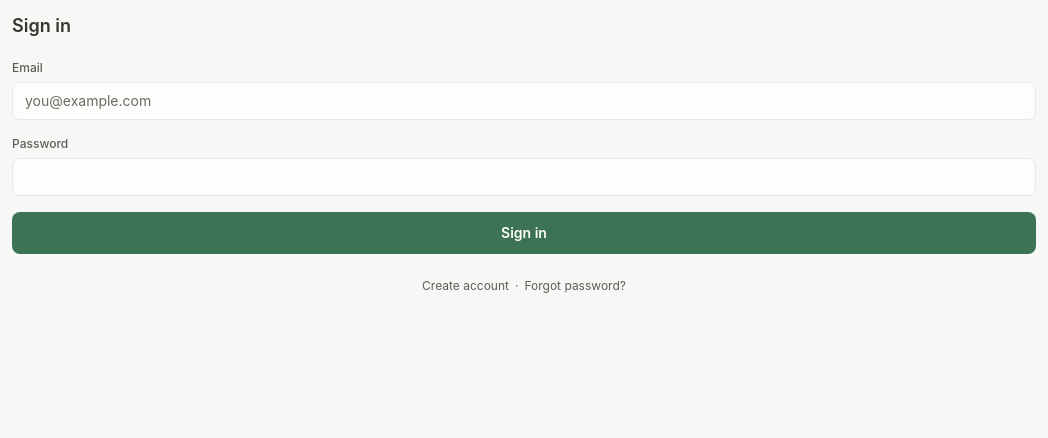
Scenario: LoginPage error mapping › shows a retryable error state on network failure
This screenshot has width=1048, height=438.
Type "alex@example.com" into the field labelled "Email" at (524, 101), box [12,82,1036,120]
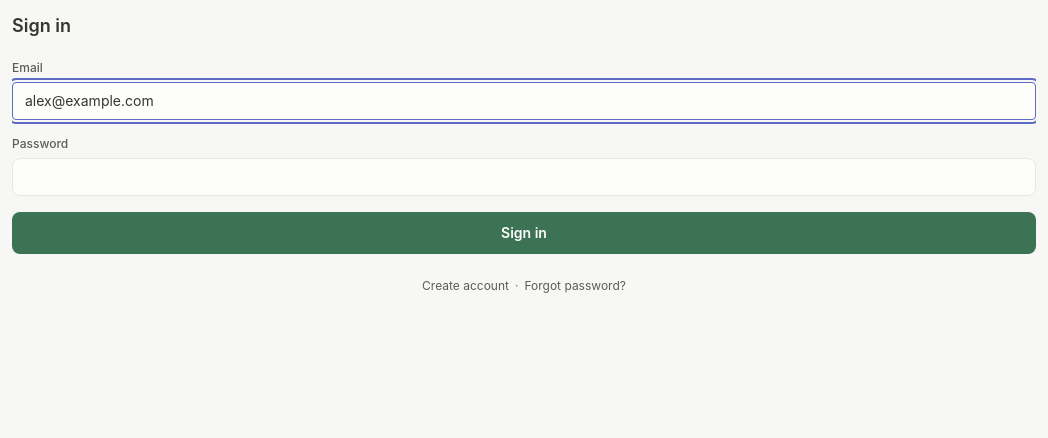
Type "hunter2boogaloo" into the password field labelled "Password" at (524, 177), box [12,158,1036,196]
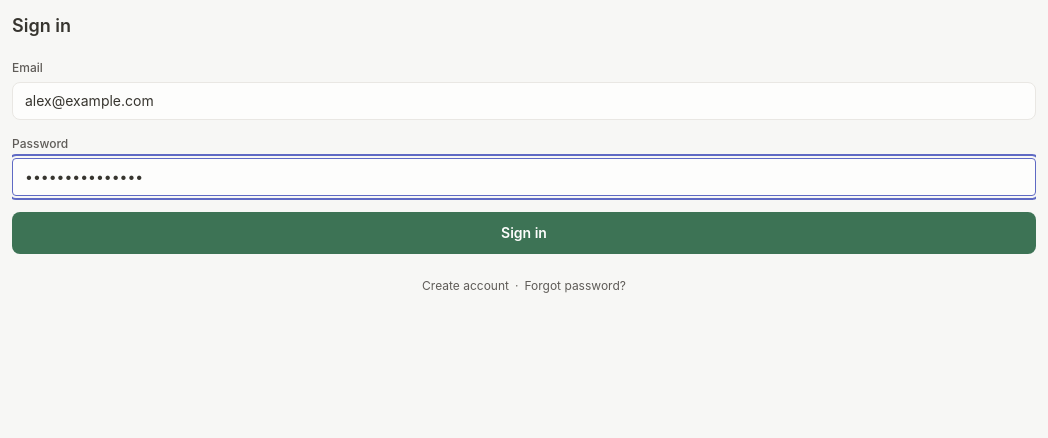
Click the button "Sign in" at (524, 233), box [12,212,1036,254]
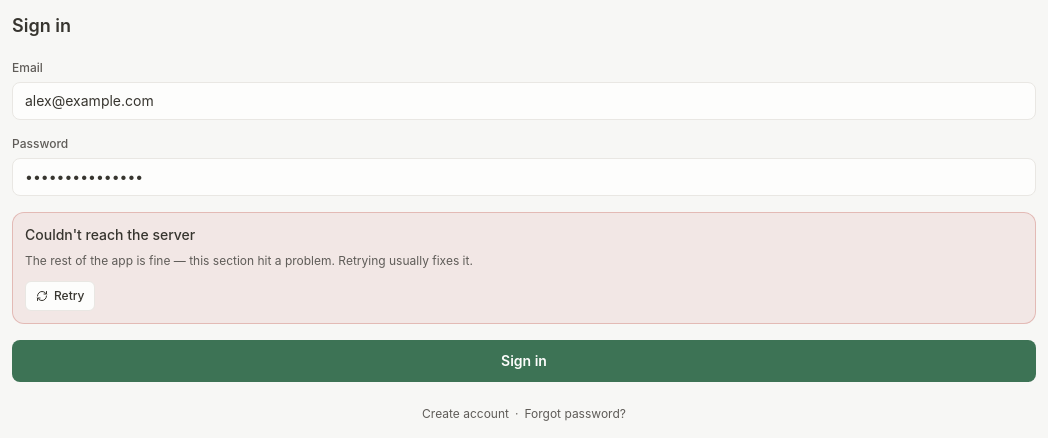
Now the text "Couldn't reach the server" is shown, box [25,225,195,245]
Now the button "Retry" is shown, box [25,281,96,311]
